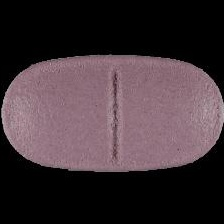55154-5157: (0, 0, 224, 224)
